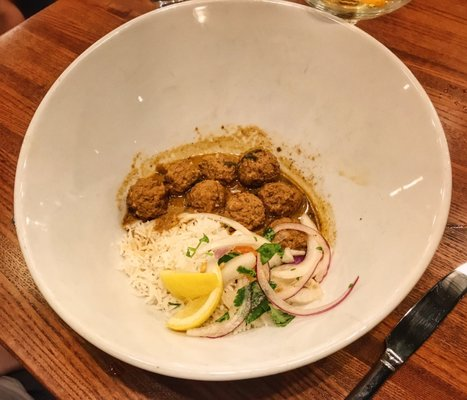sandwich: (344, 259, 467, 398)
sushi: (10, 0, 462, 394)
